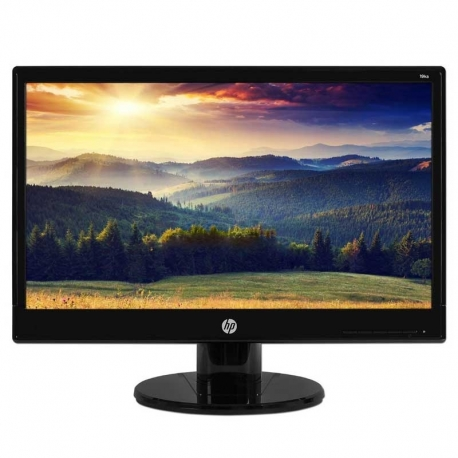hp-monitor-19ka: (12, 68, 447, 416)
